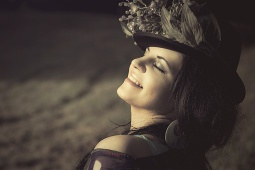female: (115, 46, 196, 119)
